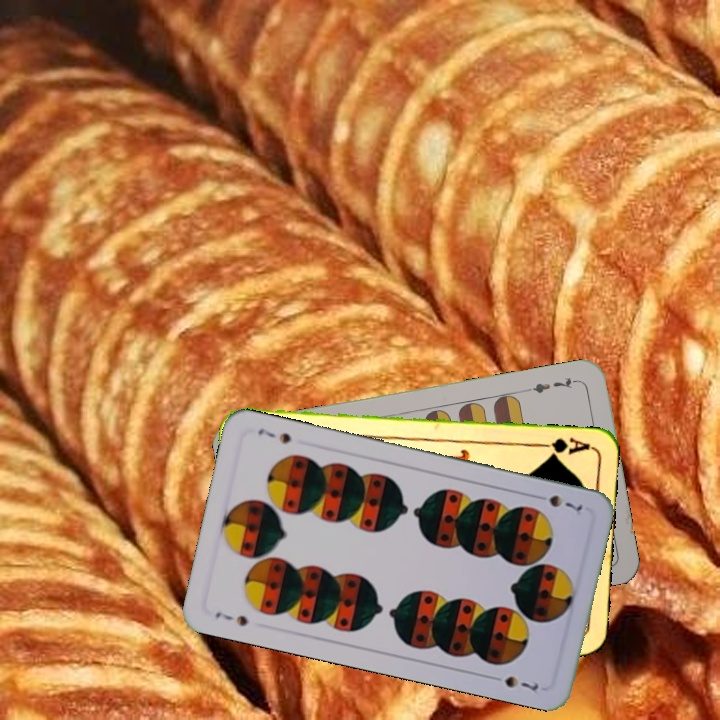E7: (522, 373, 581, 396)
GA: (534, 433, 593, 459)
S7: (530, 490, 585, 514), (211, 608, 250, 629)
